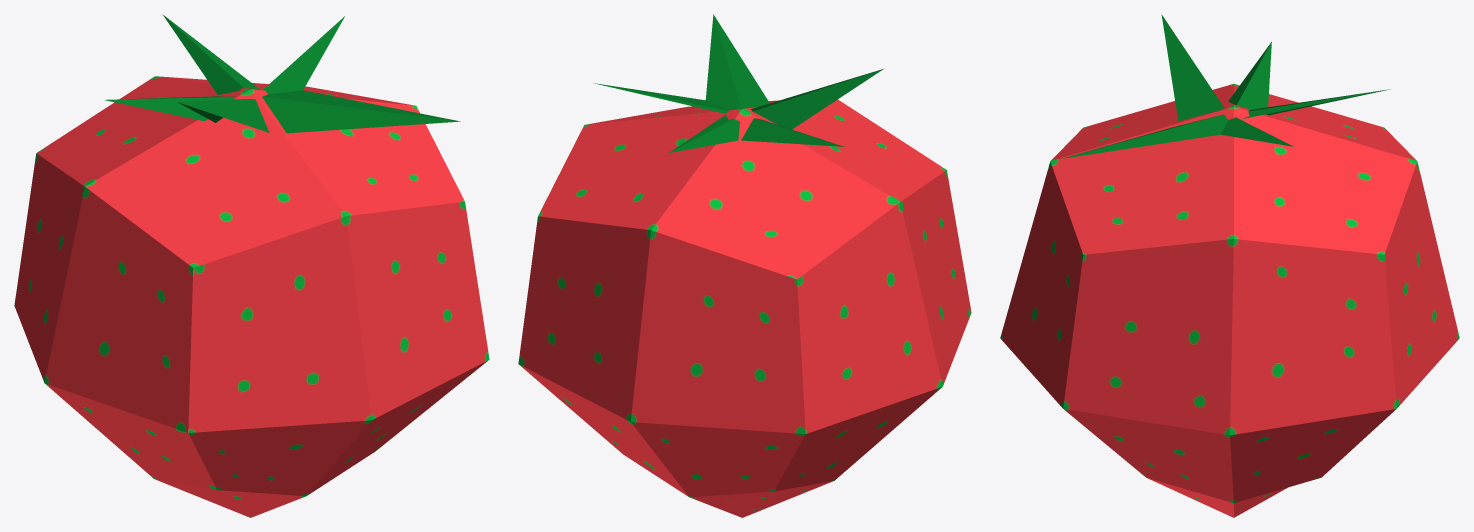
Rendered from Strawberry.glb.
The picture shows the model from 3 angles, left to right: view 1: azimuth 30°, elevation 25°; view 2: azimuth 150°, elevation 25°; view 3: azimuth 270°, elevation 25°; orthographic projection. The views are drawn at different scales.
Parts seen in each view (by area): view 1: Cube, Circle; view 2: Cube, Circle; view 3: Cube, Circle.
Boxes of the visible parts, x1,y1,x2,y2 form: Cube: [14, 76, 489, 517]; Circle: [104, 14, 460, 133]; Cube: [518, 99, 971, 517]; Circle: [593, 14, 883, 152]; Cube: [1000, 84, 1459, 517]; Circle: [1061, 14, 1389, 158].
Size of the model in its own units: 1.7 by 1.85 by 1.7.
2 materials, 2 textured.
